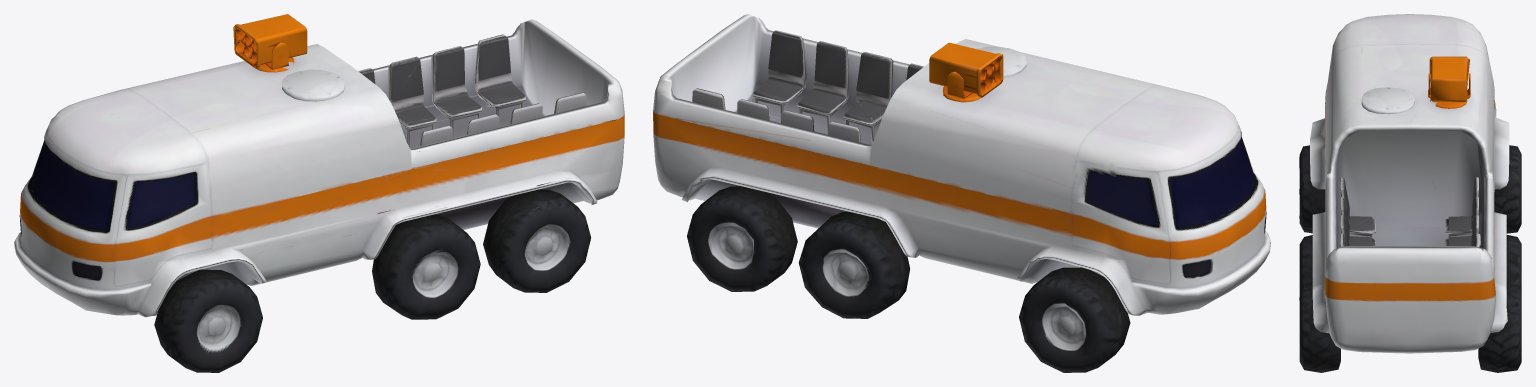
Rendered from service_transport.glb.
3 views of the same model, side by side, from view 1: azimuth 30°, elevation 25°; view 2: azimuth 150°, elevation 25°; view 3: azimuth 270°, elevation 25° (orthographic). The views are drawn at different scales.
Parts seen in each view (by area): view 1: geometry_0; view 2: geometry_0; view 3: geometry_0.
Boxes of the visible parts, x1=… form: geometry_0: x1=14, y1=14, x2=624, y2=372; geometry_0: x1=653, y1=14, x2=1270, y2=372; geometry_0: x1=1299, y1=14, x2=1521, y2=372.
Bounding box in the file's own units: 0.9565 × 0.4258 × 0.3901.
1 material, 1 textured.
